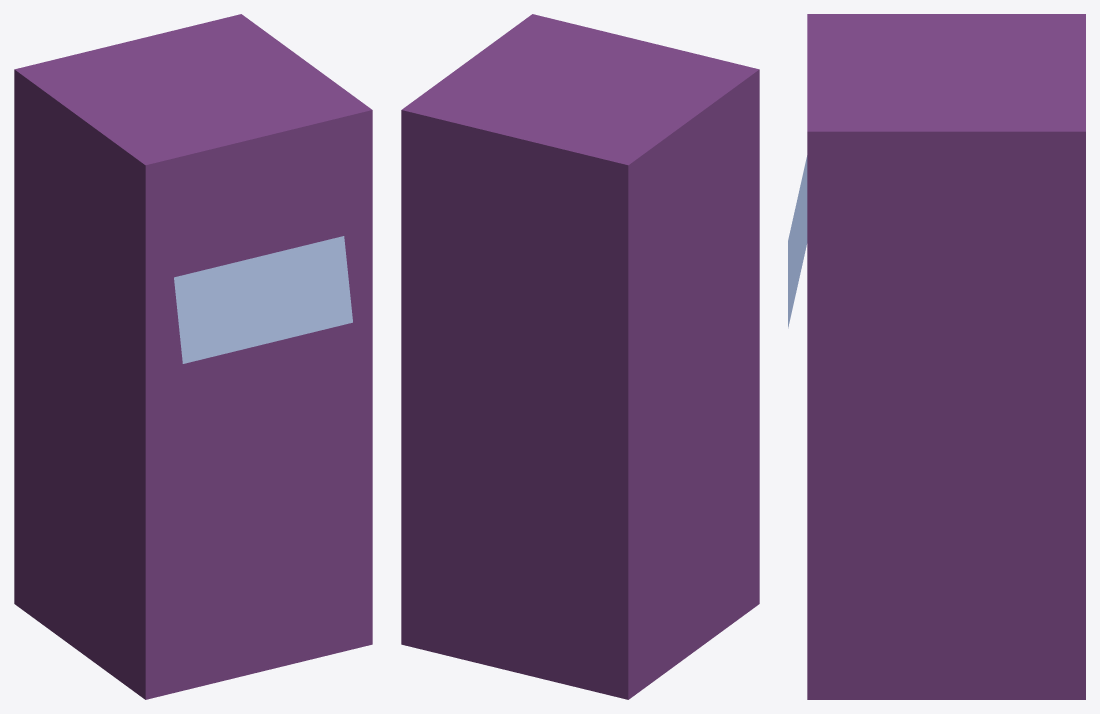
The model's file is arcade_cabinet.glb.
The picture shows the model from 3 angles, left to right: view 1: azimuth 30°, elevation 25°; view 2: azimuth 150°, elevation 25°; view 3: azimuth 270°, elevation 25°; orthographic projection. The views are drawn at different scales.
Visible parts, largest first — view 1: box, screen; view 2: box; view 3: box, screen.
Part boxes in pixels (x1,y1,x2,y2): box: (14, 14, 372, 699); screen: (174, 236, 352, 363); box: (401, 14, 759, 699); box: (807, 14, 1085, 699); screen: (788, 155, 807, 328).
Bounding box in the file's own units: 0.8 × 1.8 × 0.8547.
